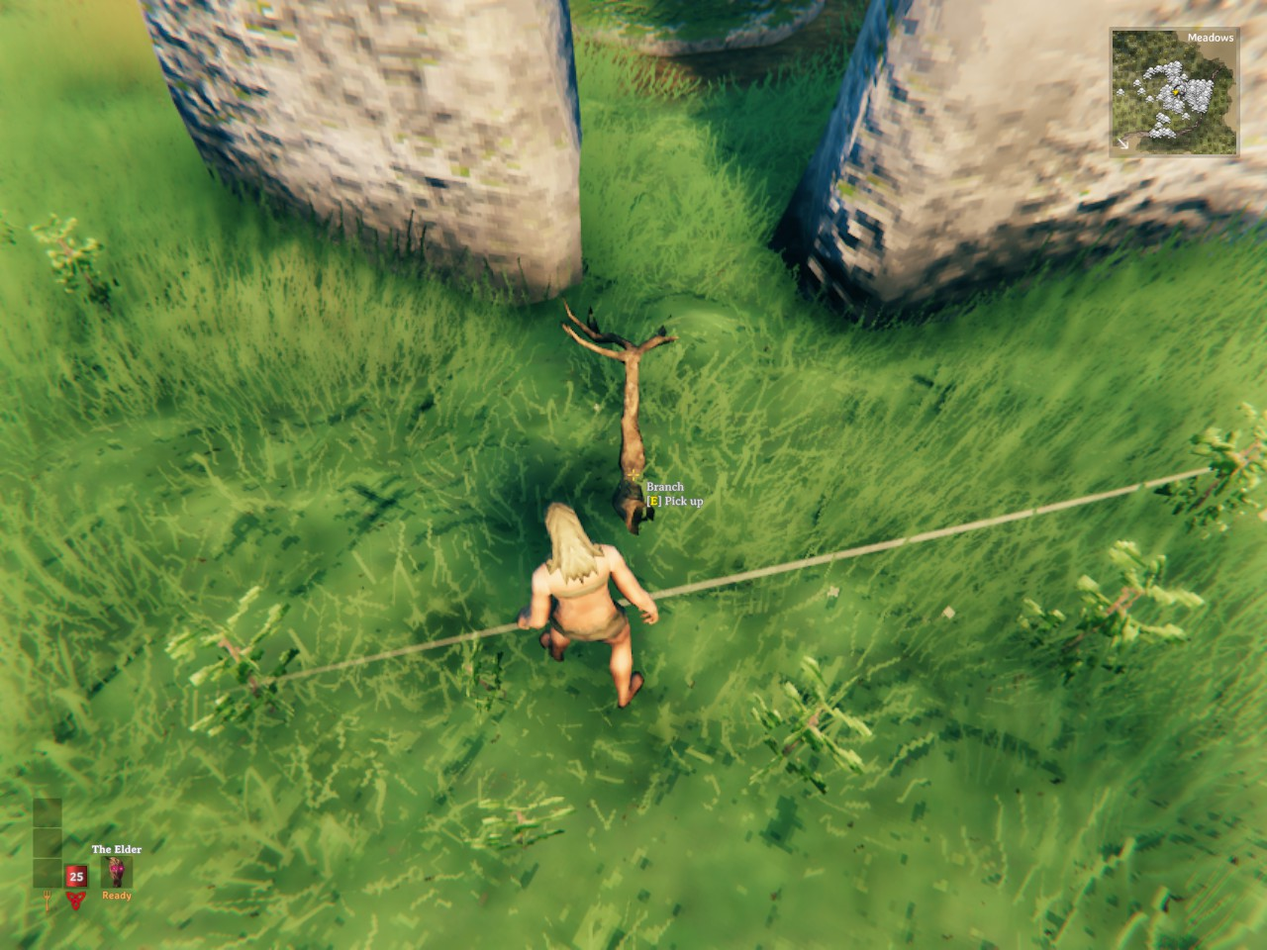Branch: (560, 301, 677, 534)
Health Bar: (65, 865, 87, 887)
